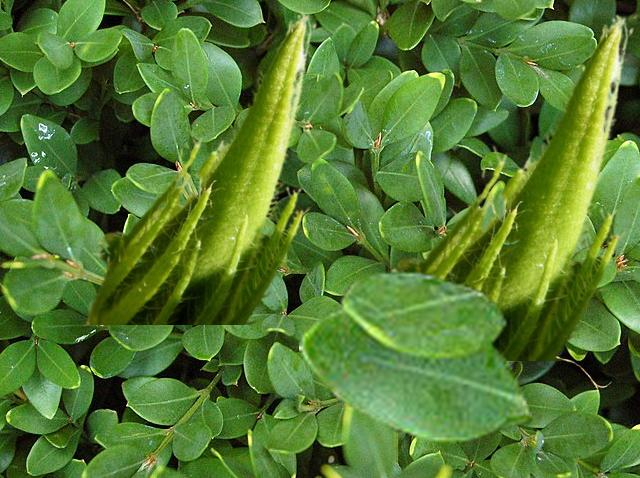okra: (390, 13, 633, 359), (82, 10, 316, 323)
